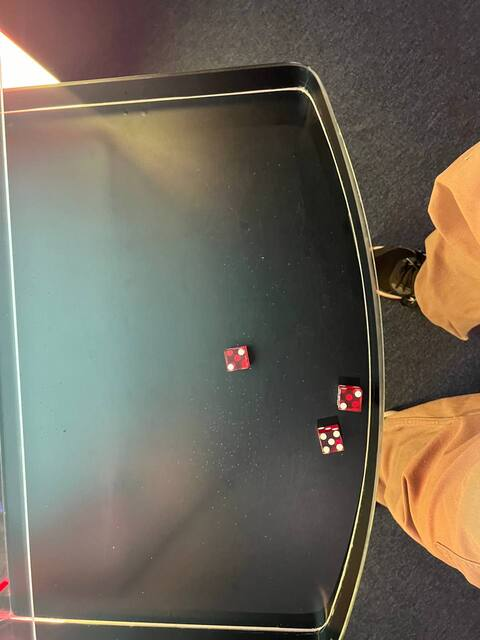five: (316, 427, 346, 456)
two: (220, 342, 253, 375), (335, 386, 366, 414)
